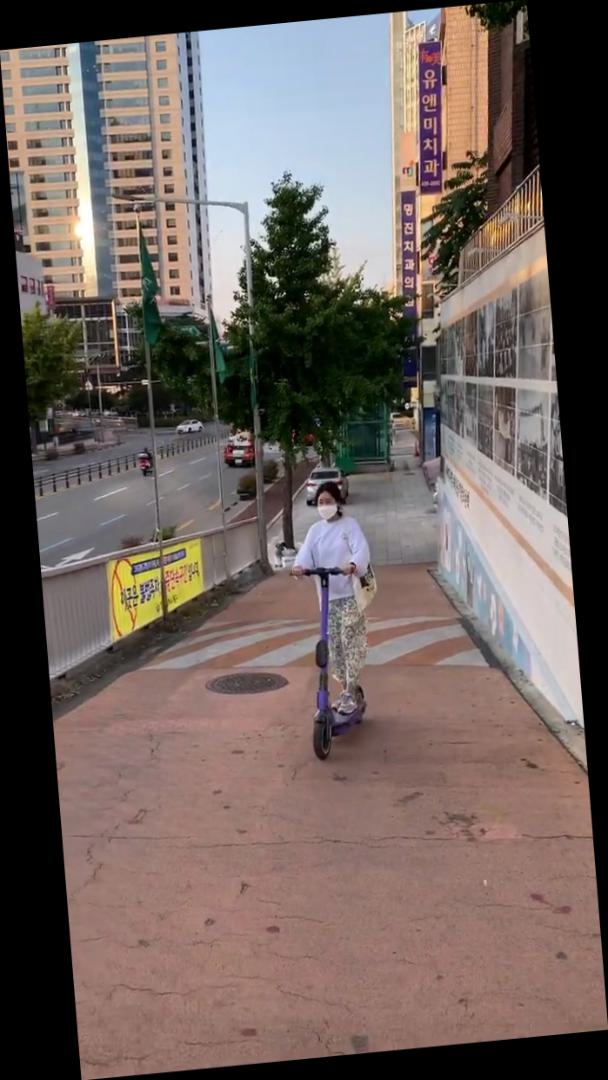nonhelmet: (280, 475, 395, 766)
